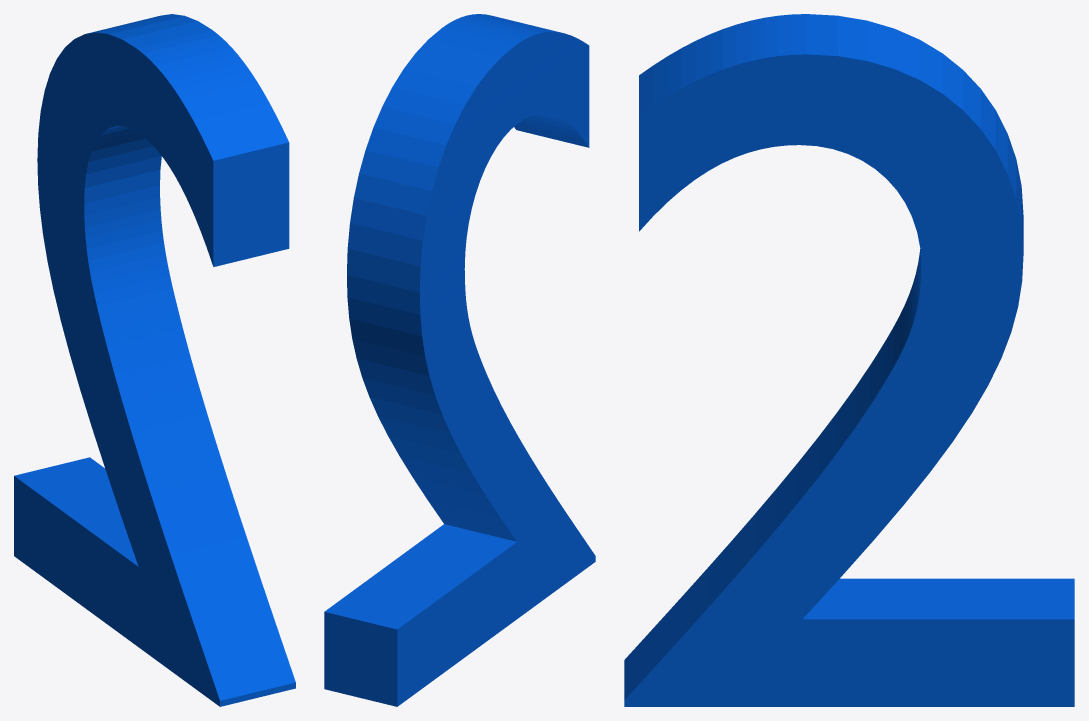
Rendered from number(2).fbx.
3 views of the same model, side by side, from view 1: azimuth 30°, elevation 25°; view 2: azimuth 150°, elevation 25°; view 3: azimuth 270°, elevation 25° (orthographic). The views are drawn at different scales.
Visible parts, largest first — view 1: Text; view 2: Text; view 3: Text.
Part boxes in pixels (x1=…): Text: x1=14, y1=14, x2=295, y2=706; Text: x1=324, y1=14, x2=595, y2=706; Text: x1=624, y1=14, x2=1074, y2=706.
Bounding box in the file's own units: 9.18 × 69.1 × 43.2.
